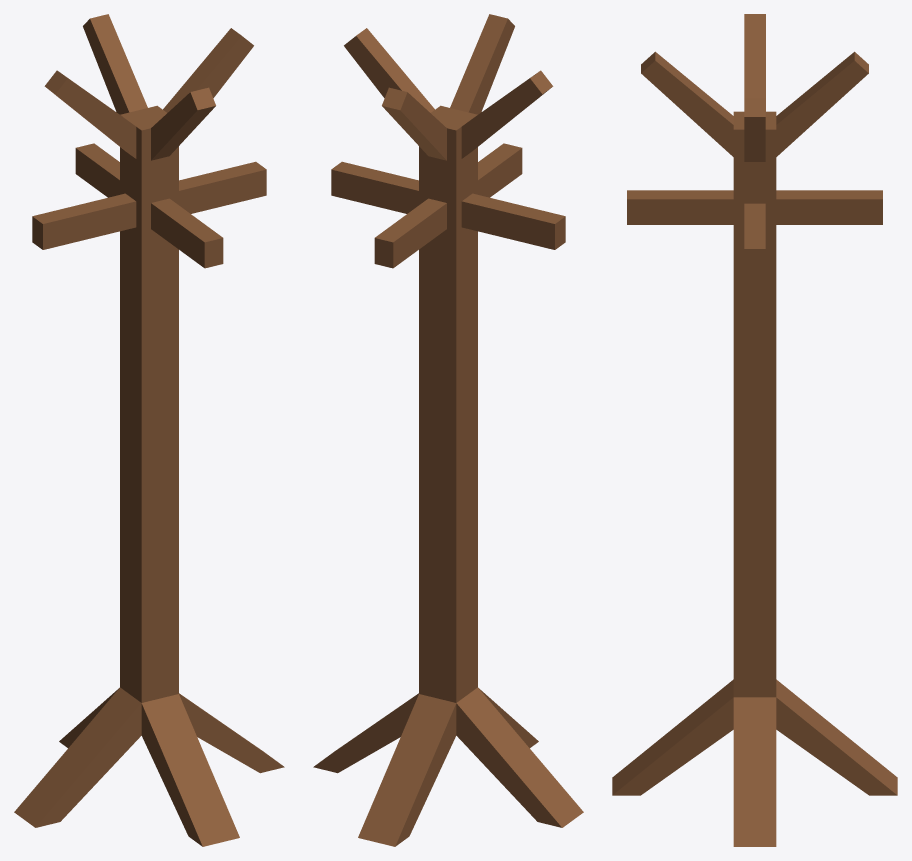
File: coat_rack.glb
3 renders of one model, left to right at view 1: azimuth 30°, elevation 25°; view 2: azimuth 150°, elevation 25°; view 3: azimuth 270°, elevation 25°, orthographic.
Parts seen in each view (by area): view 1: coatRackStanding(Clone); view 2: coatRackStanding(Clone); view 3: coatRackStanding(Clone).
Boxes of the visible parts, x1,y1,x2,y2 form: coatRackStanding(Clone): (14, 14, 284, 846); coatRackStanding(Clone): (313, 14, 583, 846); coatRackStanding(Clone): (612, 14, 897, 846).
Bounding box in the file's own units: 0.6377 × 1.8 × 0.6377.
